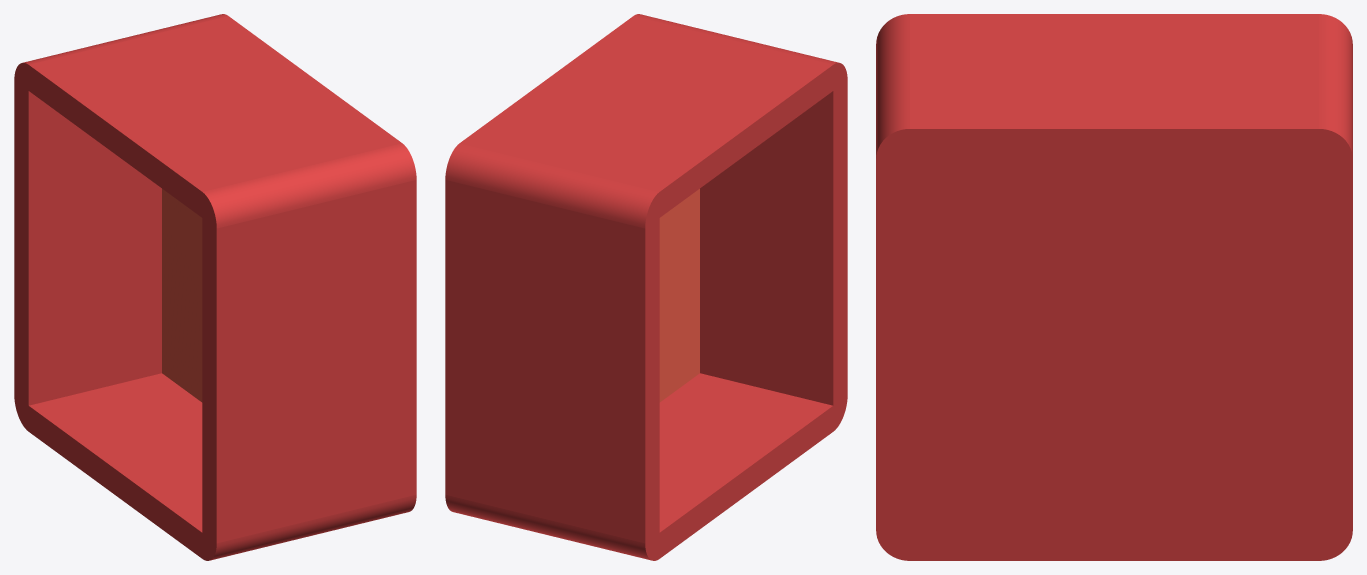
The model's file is convoyeur_end.fbx.
3 renders of one model, left to right at view 1: azimuth 30°, elevation 25°; view 2: azimuth 150°, elevation 25°; view 3: azimuth 270°, elevation 25°, orthographic. The views are drawn at different scales.
Parts seen in each view (by area): view 1: mergedBlocks; view 2: mergedBlocks; view 3: mergedBlocks.
Boxes of the visible parts, x1,y1,x2,y2 form: mergedBlocks: [14, 14, 416, 560]; mergedBlocks: [445, 14, 847, 560]; mergedBlocks: [876, 14, 1352, 560].
Bounding box in the file's own units: 5.7 × 10 × 10.
